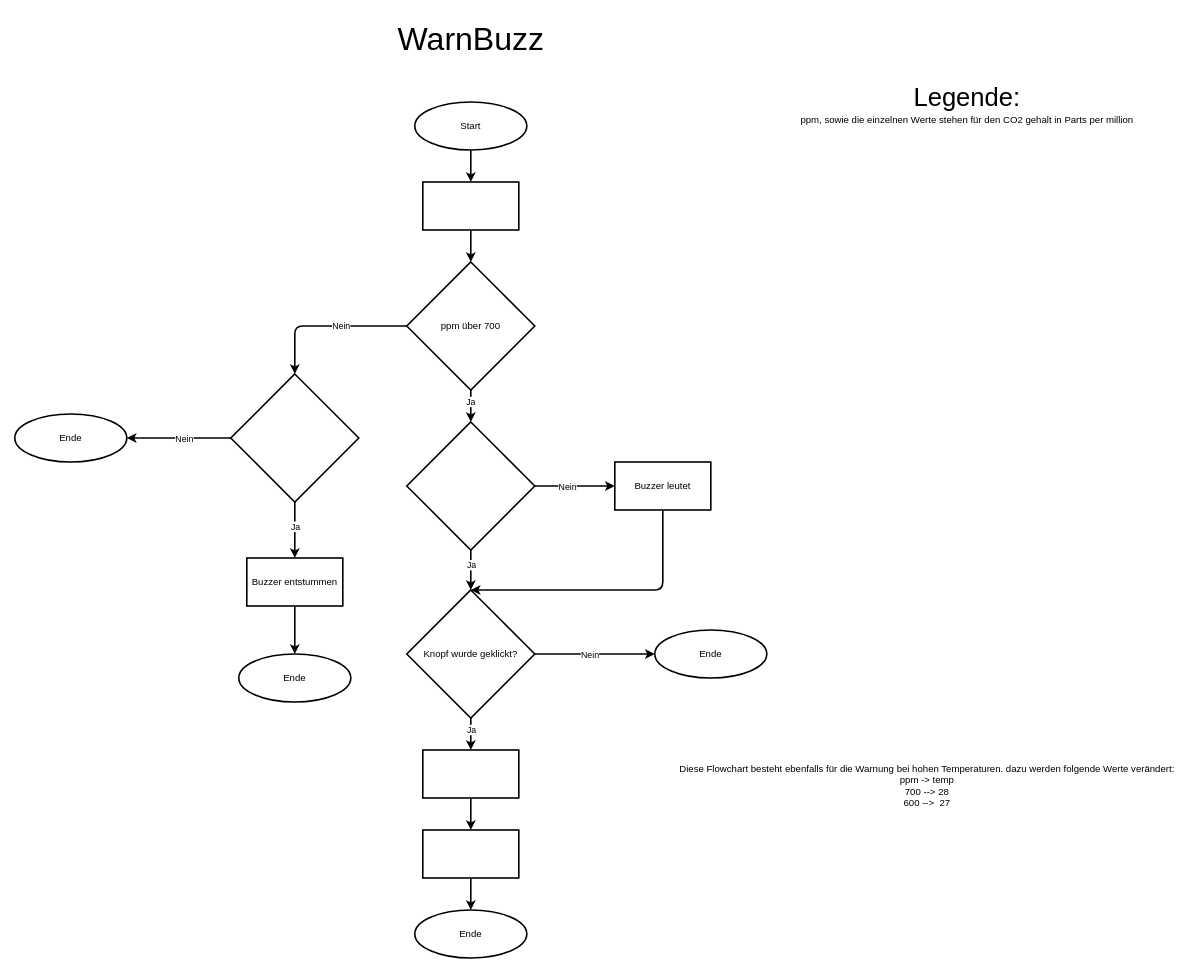
Some shapes in this 1196 by 972 pixel diagram are drawn without their labels. The shapes that lost their labels are listed below. From the top down, each one's box as (x1, y1, x2, y2) in pixels, then its label:
(422, 181, 519, 230): ppm wird gemessen
(230, 373, 359, 502): ppm unter 600?
(406, 421, 535, 550): Buzzer stummgeschaltet?
(422, 749, 519, 798): Buzzer Stoppen und Stummen
(422, 829, 519, 878): Klickverlauf zurücksetzen
